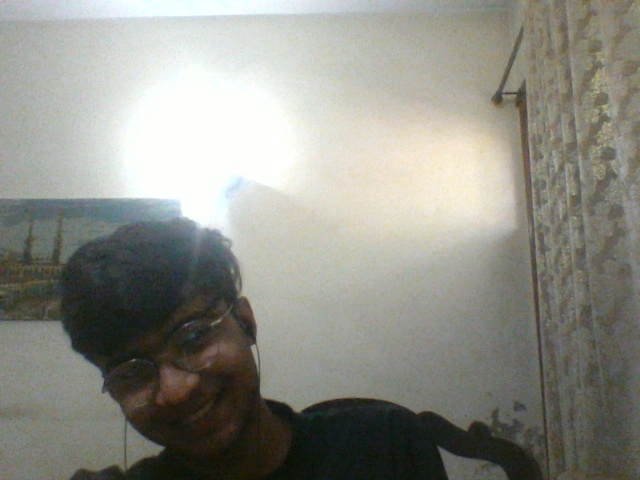happy: (130, 307, 270, 451)
